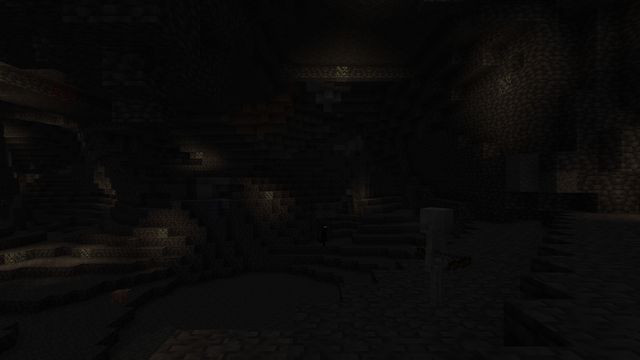cochons: (110, 288, 128, 302)
endermens: (321, 223, 325, 246)
squelettes: (417, 207, 457, 308)
